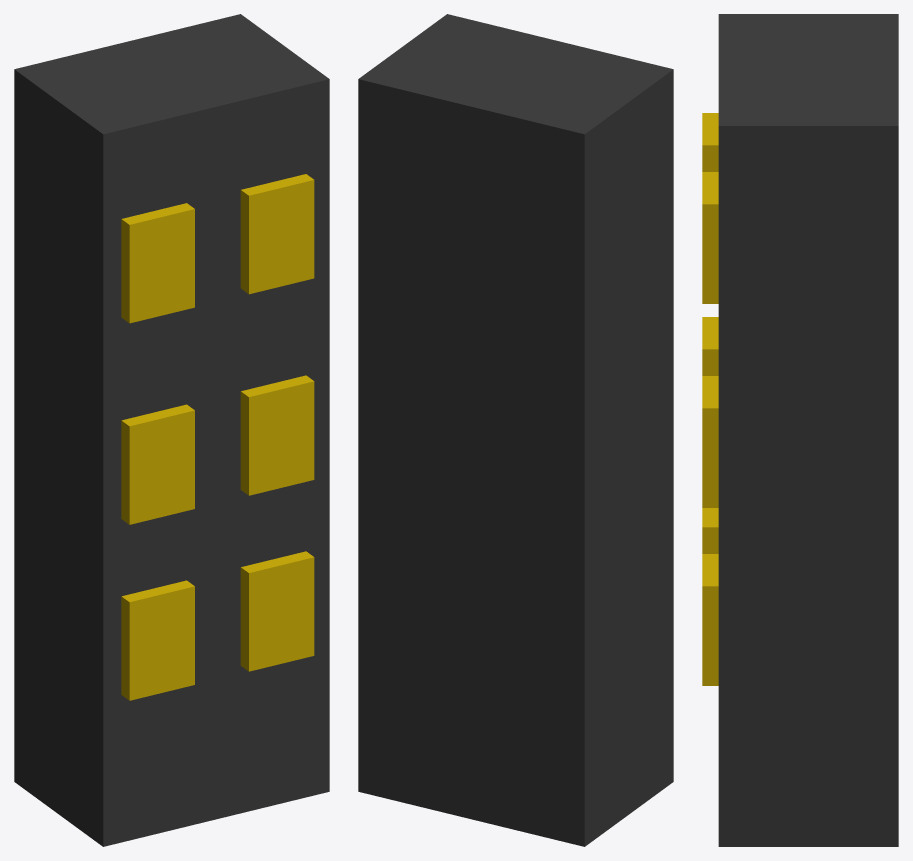
File: building.FBX
3 views of the same model, side by side, from view 1: azimuth 30°, elevation 25°; view 2: azimuth 150°, elevation 25°; view 3: azimuth 270°, elevation 25° (orthographic).
Visible parts, largest first — view 1: Box001, Box003, Box005, Box007, Box002, Box004, Box006; view 2: Box001; view 3: Box001, Box003, Box005, Box007, Box004, Box006, Box002.
Boxes of the visible parts, <box> form: Box001: <box>14,14,329,846</box>; Box003: <box>240,551,314,671</box>; Box005: <box>240,375,314,495</box>; Box007: <box>240,174,314,294</box>; Box002: <box>121,580,194,700</box>; Box004: <box>121,404,194,524</box>; Box006: <box>121,203,194,323</box>; Box001: <box>358,14,673,846</box>; Box001: <box>718,14,898,846</box>; Box003: <box>702,554,718,685</box>; Box005: <box>702,376,718,507</box>; Box007: <box>702,172,718,303</box>; Box004: <box>702,317,718,375</box>; Box006: <box>702,113,718,171</box>; Box002: <box>702,508,718,553</box>.
Bounding box in the file's own units: 27 × 81.19 × 20.05.
